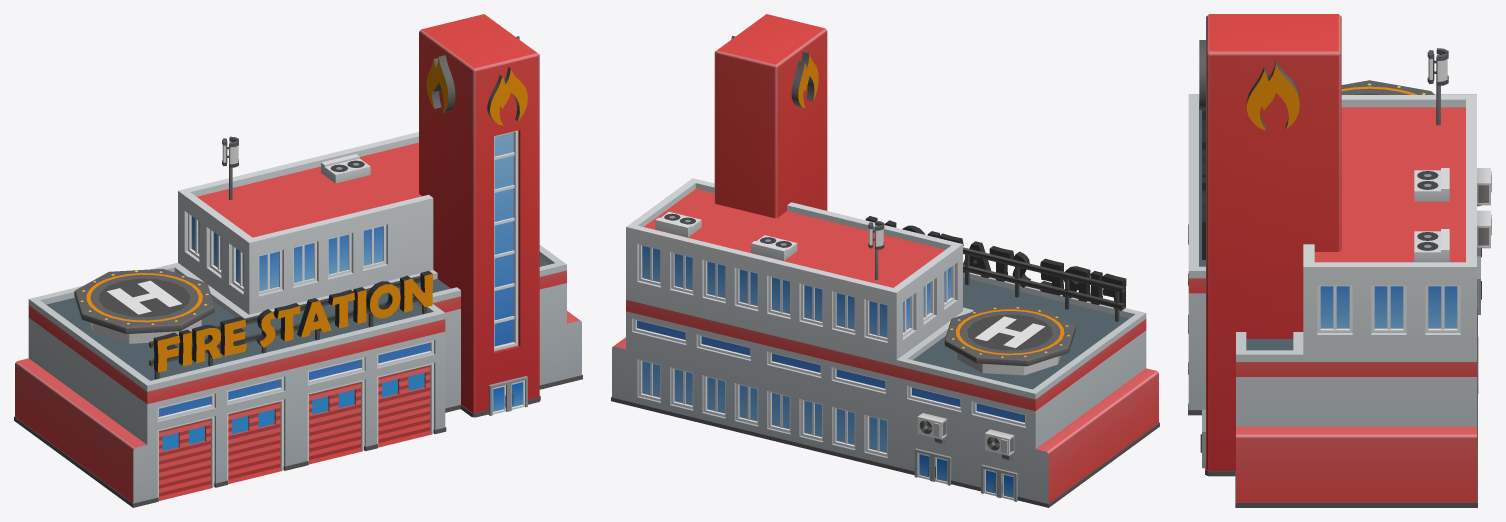
The model's file is fire_station_001.glb.
3 views of the same model, side by side, from view 1: azimuth 30°, elevation 25°; view 2: azimuth 150°, elevation 25°; view 3: azimuth 270°, elevation 25° (orthographic). The views are drawn at different scales.
Visible parts, largest first — view 1: fire_station_001; view 2: fire_station_001; view 3: fire_station_001.
Boxes of the visible parts, bbox=[...] form: fire_station_001: bbox=[14, 14, 582, 507]; fire_station_001: bbox=[611, 14, 1159, 507]; fire_station_001: bbox=[1188, 14, 1491, 507].
Bounding box in the file's own units: 39.71 × 28.3 × 18.31.
Materials: 2 (2 with a texture image).
